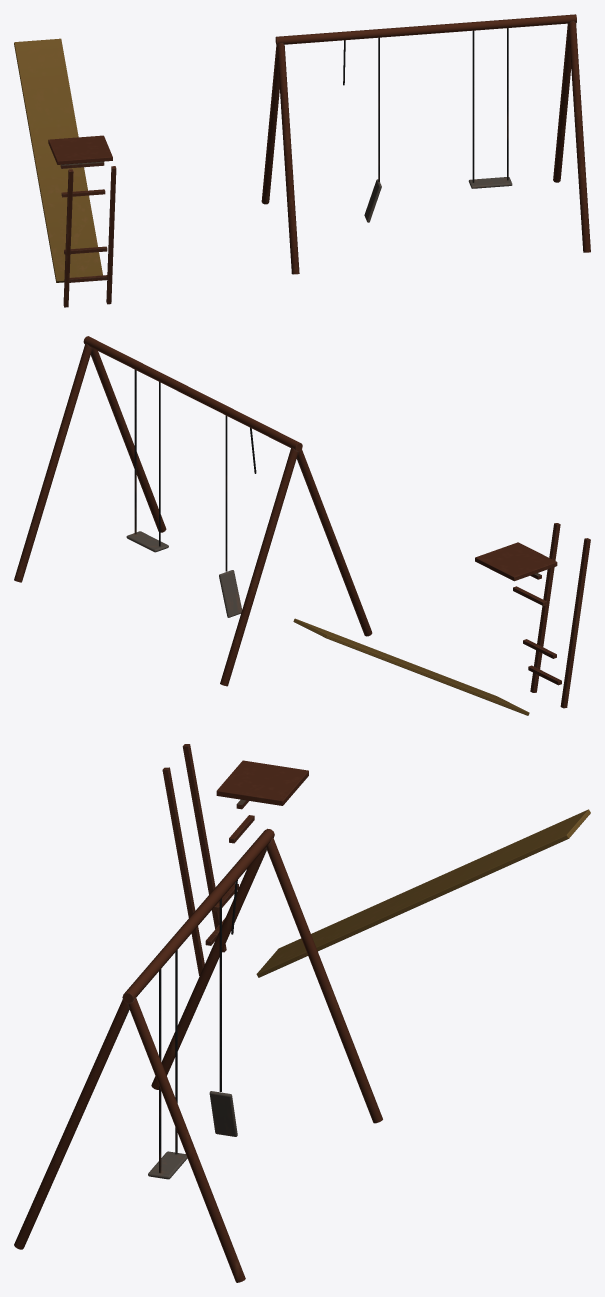
The model's file is parquinho.glb.
The picture shows the model from 3 angles, top to bottom: view 1: azimuth 30°, elevation 25°; view 2: azimuth 150°, elevation 25°; view 3: azimuth 270°, elevation 25°; orthographic projection. The views are drawn at different scales.
Parts seen in each view (by area): view 1: g_parquinho; view 2: g_parquinho; view 3: g_parquinho.
Part boxes in pixels (box(x1,y1,x2,y2)): g_parquinho: box(14, 14, 590, 307); g_parquinho: box(14, 336, 590, 715); g_parquinho: box(14, 744, 590, 1282).
Size of the model in its own units: 6.79 by 2.56 by 4.89.
1 material, 1 textured.
